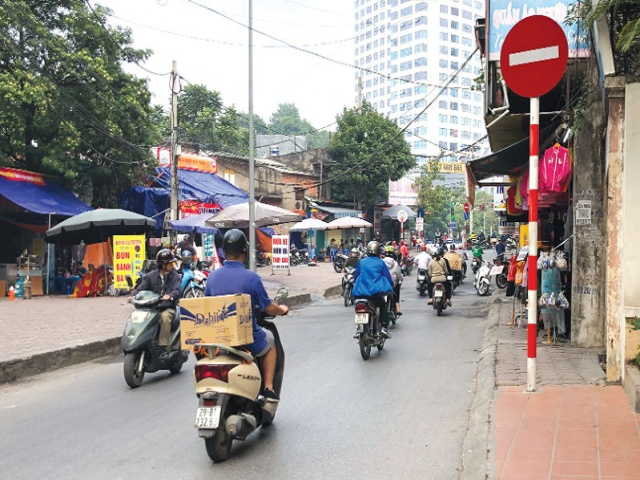Cam_di_nguoc_chieu: (497, 11, 573, 99)
